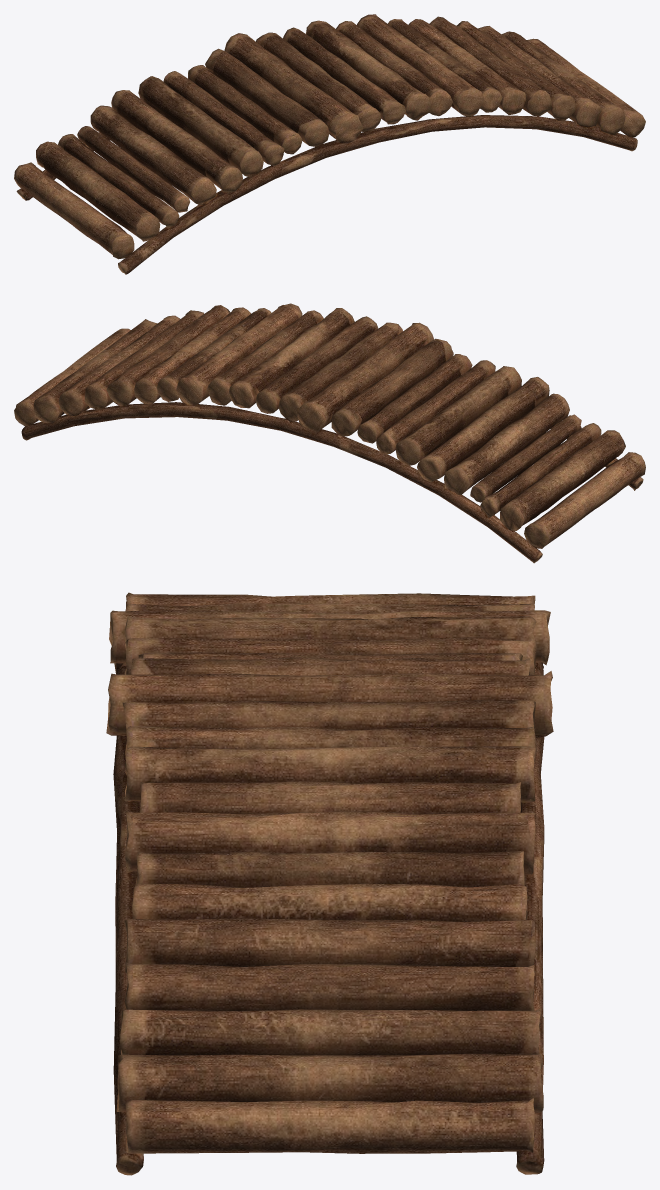
Rendered from wooden_bridge.glb.
3 renders of one model, top to bottom at view 1: azimuth 30°, elevation 25°; view 2: azimuth 150°, elevation 25°; view 3: azimuth 270°, elevation 25°, orthographic. The views are drawn at different scales.
Parts seen in each view (by area): view 1: Object_2; view 2: Object_2; view 3: Object_2.
Part boxes in pixels (bbox=[...]): Object_2: bbox=[14, 14, 645, 274]; Object_2: bbox=[14, 303, 645, 563]; Object_2: bbox=[106, 592, 553, 1175].
Size of the model in its own units: 420 by 83.35 by 153.
1 material, 1 textured.
